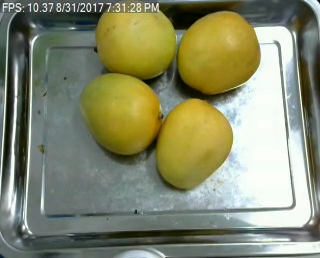Mango: (155, 97, 234, 189), (178, 11, 259, 94), (79, 73, 161, 154), (95, 2, 175, 78)
